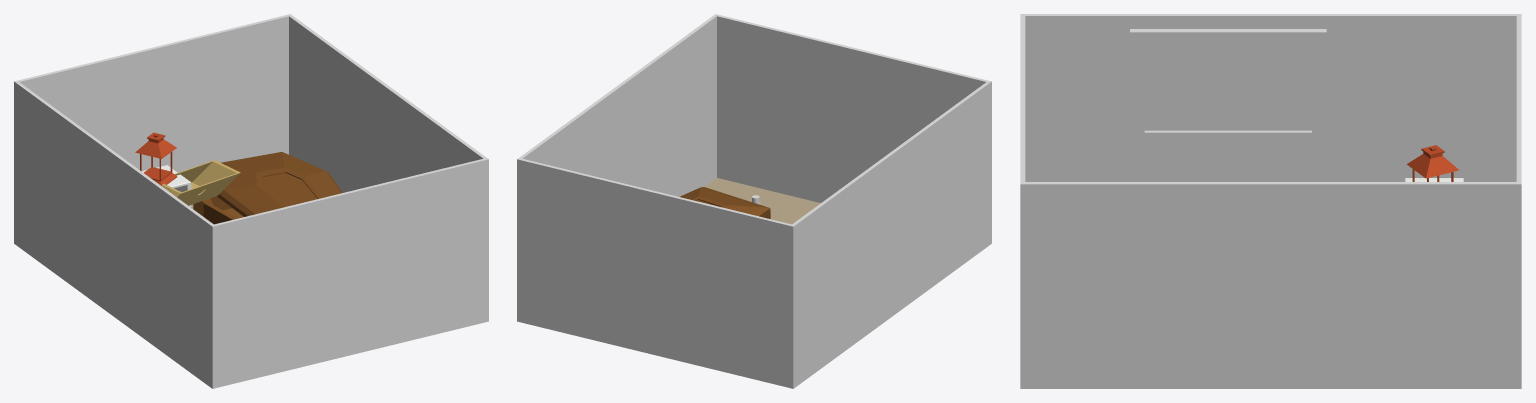
Rendered from ghostbedroom.fbx.
3 views of the same model, side by side, from view 1: azimuth 30°, elevation 25°; view 2: azimuth 150°, elevation 25°; view 3: azimuth 270°, elevation 25° (orthographic). The views are drawn at different scales.
Visible parts, largest first — view 1: Wall-South, Wall-East, Wall-North, Wall-West, Cover, Drawer, Lantern, Bed; view 2: Wall-North, Wall-East, Wall-South, Wall-West, Floor, Cover; view 3: Wall-West, Wall-East, Cube.001, Cube, Wall-North, Wall-South, Lantern.
Part boxes in pixels (x1=…): Wall-South: x1=210, y1=158, x2=488, y2=388; Wall-East: x1=16, y1=82, x2=213, y2=387; Wall-North: x1=14, y1=14, x2=291, y2=244; Wall-West: x1=289, y1=15, x2=486, y2=192; Cover: x1=217, y1=152, x2=342, y2=216; Drawer: x1=162, y1=160, x2=240, y2=205; Lantern: x1=135, y1=132, x2=177, y2=185; Bed: x1=193, y1=196, x2=243, y2=224; Wall-North: x1=517, y1=158, x2=795, y2=388; Wall-East: x1=792, y1=82, x2=989, y2=387; Wall-South: x1=714, y1=14, x2=991, y2=244; Wall-West: x1=519, y1=15, x2=716, y2=196; Floor: x1=705, y1=178, x2=820, y2=224; Cover: x1=679, y1=187, x2=770, y2=217; Wall-West: x1=1025, y1=182, x2=1516, y2=388; Wall-East: x1=1025, y1=14, x2=1516, y2=181; Cube.001: x1=1144, y1=42, x2=1311, y2=130; Cube: x1=1130, y1=29, x2=1326, y2=143; Wall-North: x1=1516, y1=14, x2=1521, y2=388; Wall-South: x1=1020, y1=14, x2=1025, y2=388; Lantern: x1=1406, y1=145, x2=1459, y2=181.
Bounding box in the file's own units: 410 × 230 × 510.
